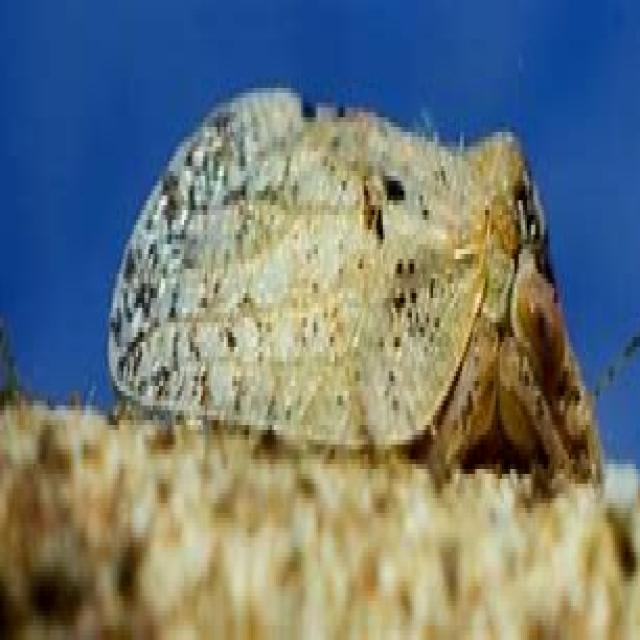Psyllid: (107, 88, 600, 489)
